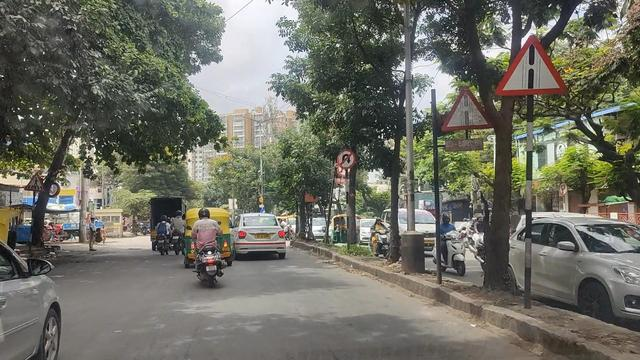LMV: (193, 209, 220, 290), (238, 218, 284, 259)
